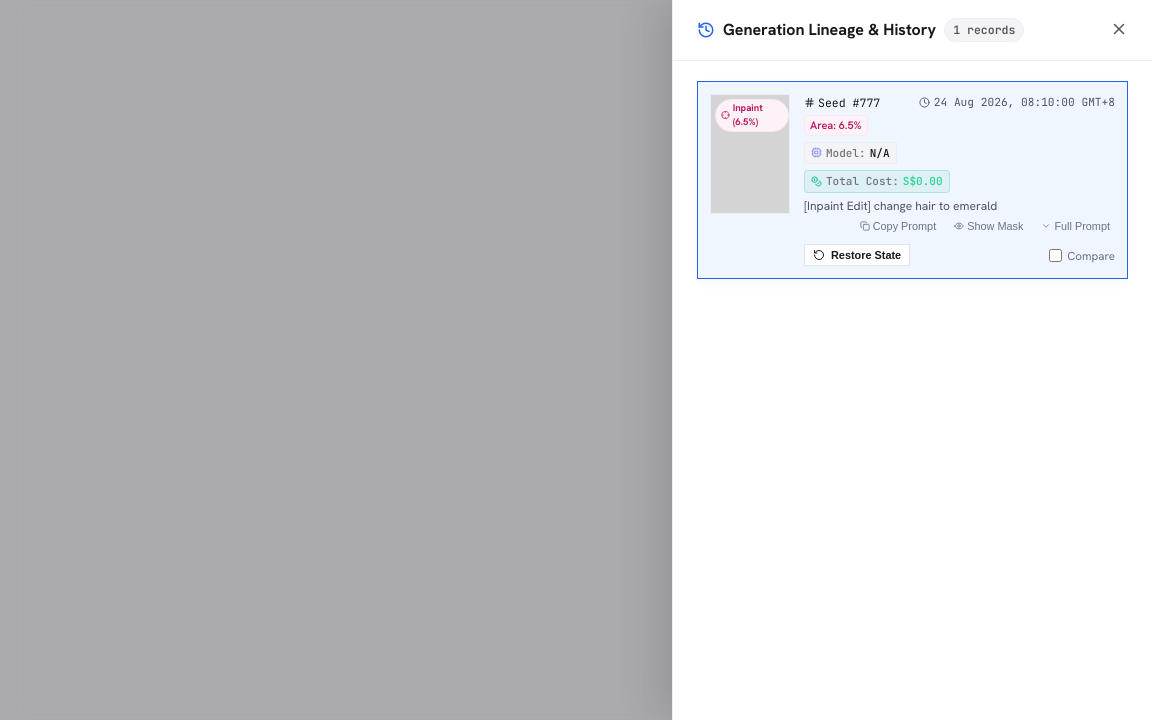
Test case: HistoryDrawer › renders inpaint mask badge and toggles mask thumbnail preview
This screenshot has width=1152, height=720.
Expected: the text "Inpaint (6.5%)" is shown, [733,101,763,128]
Expected: the text "Area: 6.5%" is shown, [804,115,868,136]
# Clicking toggles to Show Image and changes image src
Click the button "Show Mask": (989, 226) [949,218,1028,234]
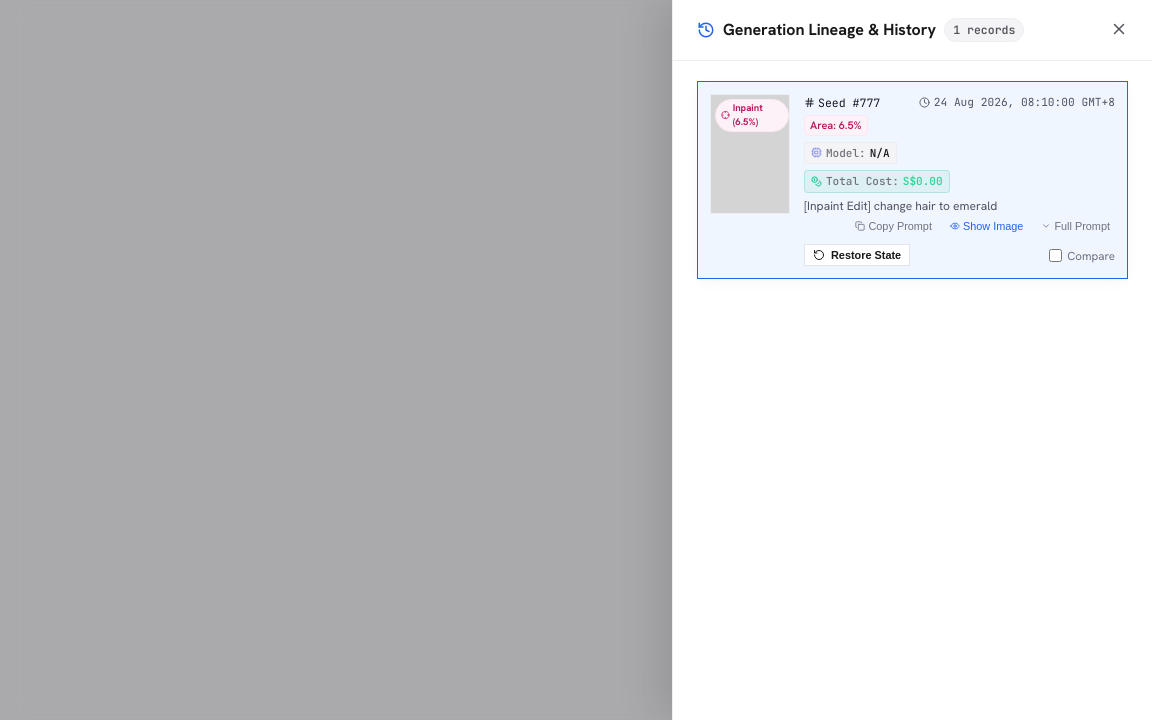
Result: the button "Show Image" is shown at [945,218,1028,234]
